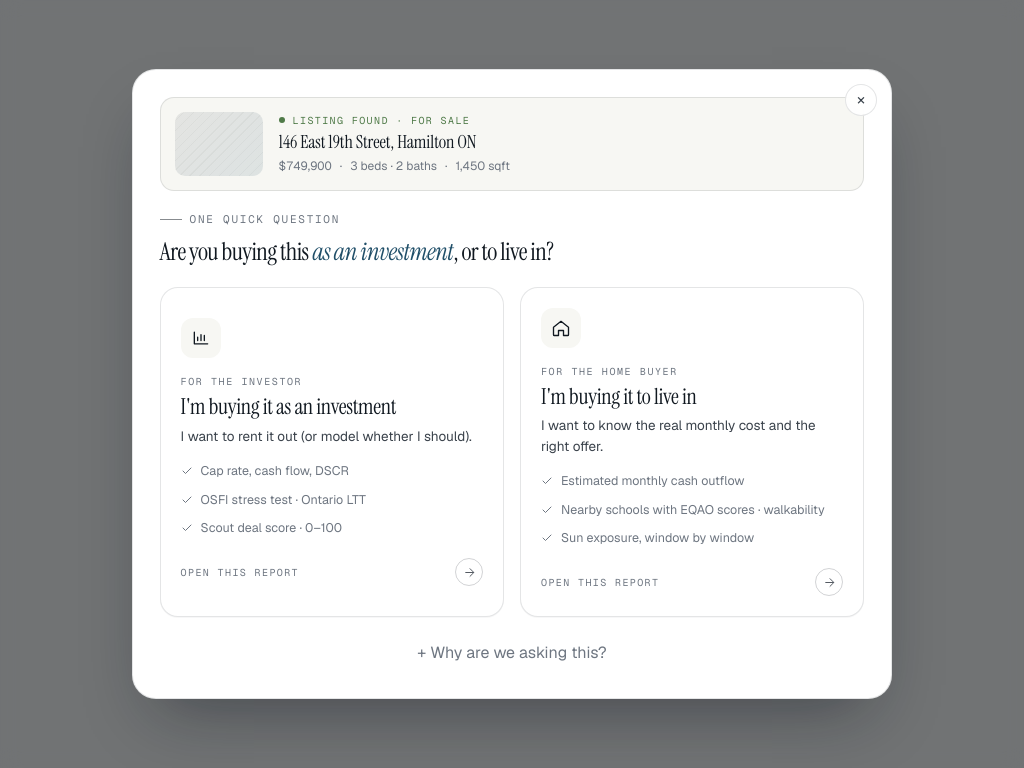
Test: ModeModal › toggles the "why we ask" explanation on click
Expected: the text "tailor the whole report" is not shown
Click the button "+ Why are we asking this?": (512, 653) [405, 635, 619, 671]
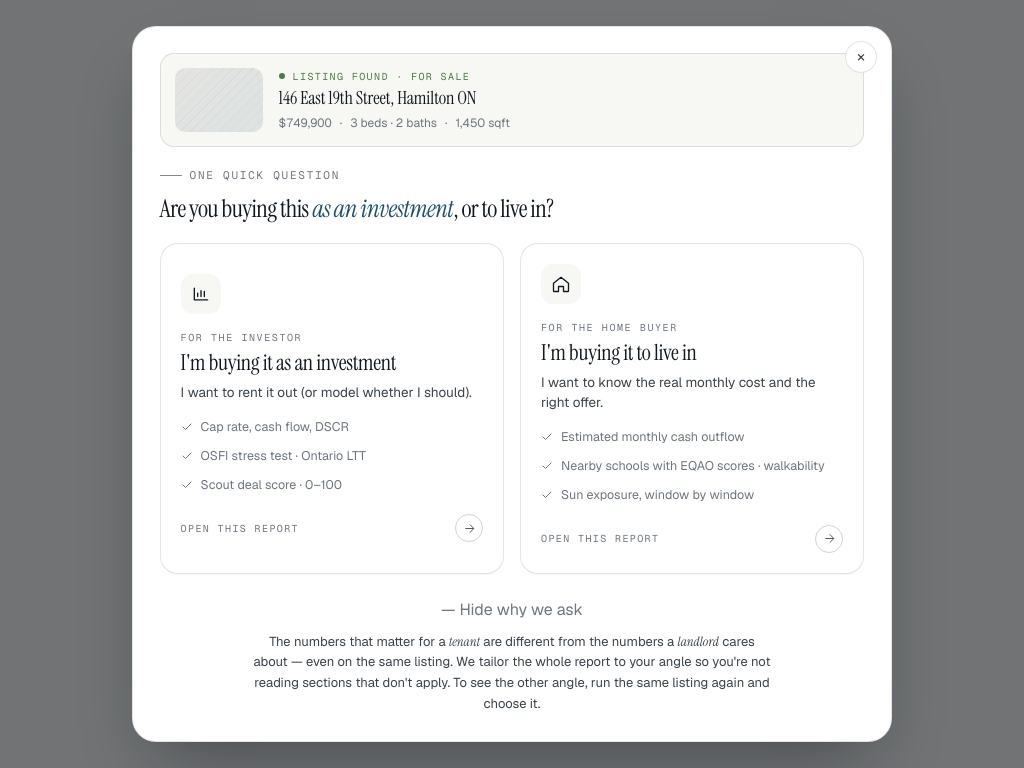
Result: the text "tailor the whole report" is shown at [254, 633, 770, 712]
Click the button "— Hide why we ask": (512, 610) [429, 592, 595, 628]
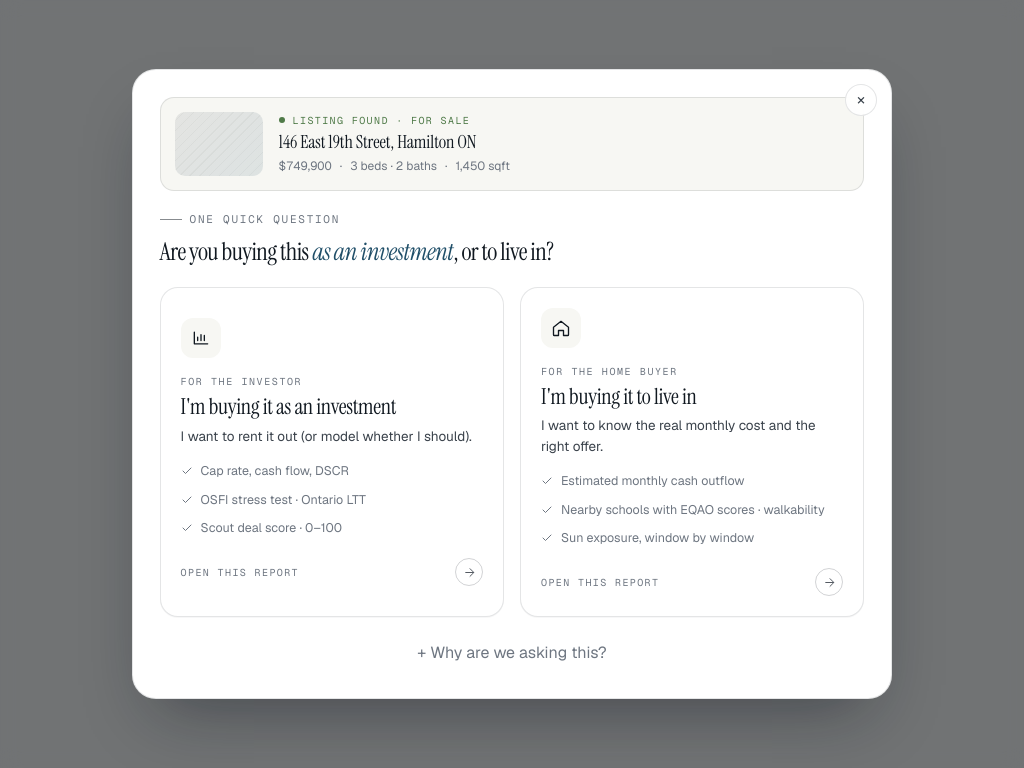
Result: the text "tailor the whole report" is gone
